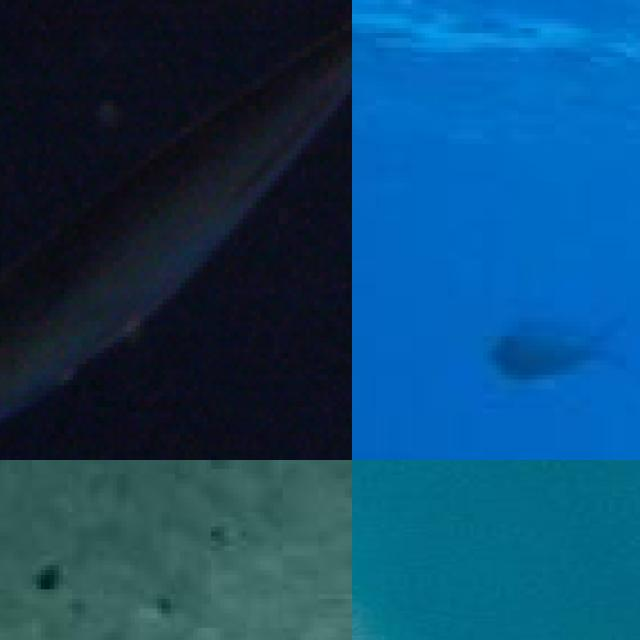fish: (0, 0, 352, 460), (352, 460, 640, 640)
